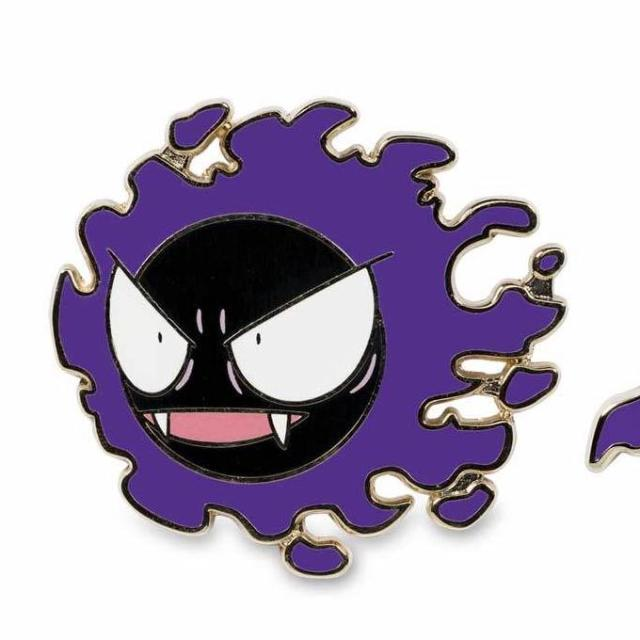Gastly: (78, 133, 458, 538)
